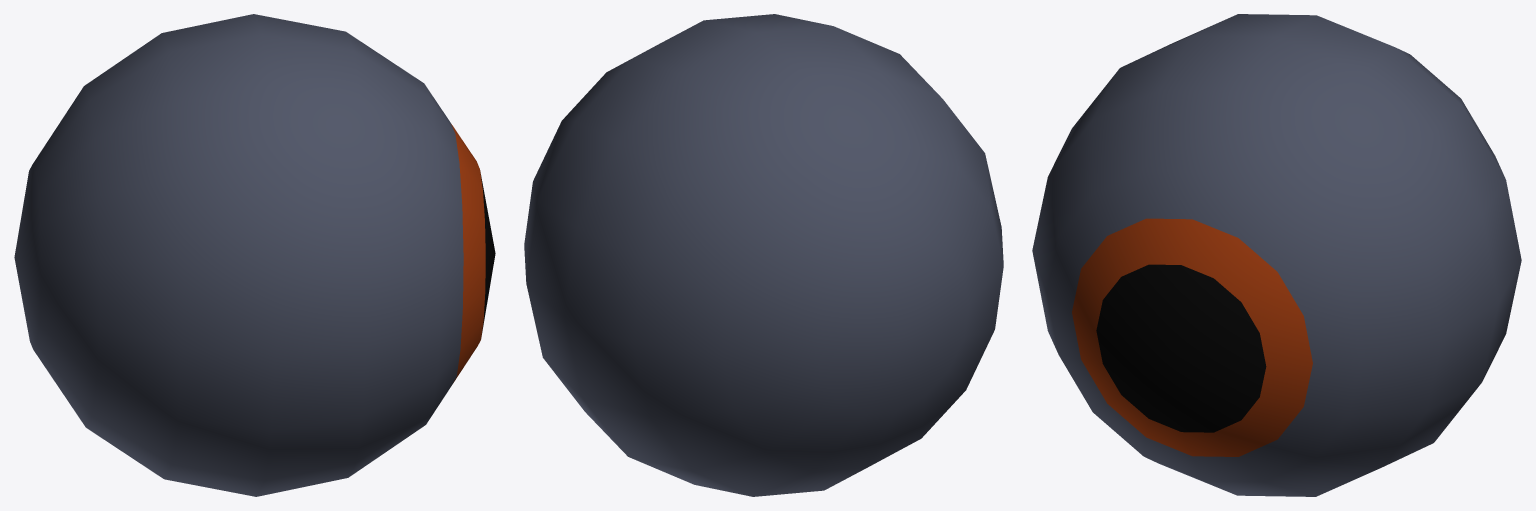
The model's file is hen_eye.obj.
3 renders of one model, left to right at view 1: azimuth 30°, elevation 25°; view 2: azimuth 150°, elevation 25°; view 3: azimuth 270°, elevation 25°, orthographic.
Visible parts, largest first — view 1: eye; view 2: eye; view 3: eye.
Part boxes in pixels (x1,y1,x2,y2): eye: [14, 14, 495, 496]; eye: [524, 14, 1003, 496]; eye: [1032, 14, 1521, 496].
Size of the model in its own units: 0.0107 by 0.0107 by 0.0107.
